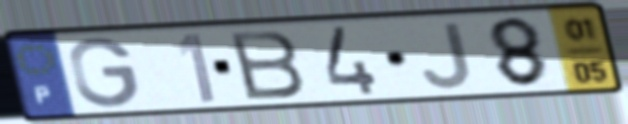1: (174, 30, 218, 106)
4: (323, 23, 380, 97)
8: (485, 14, 552, 90)
B: (225, 28, 309, 102)
G: (66, 35, 142, 110)
J: (418, 20, 476, 92)
